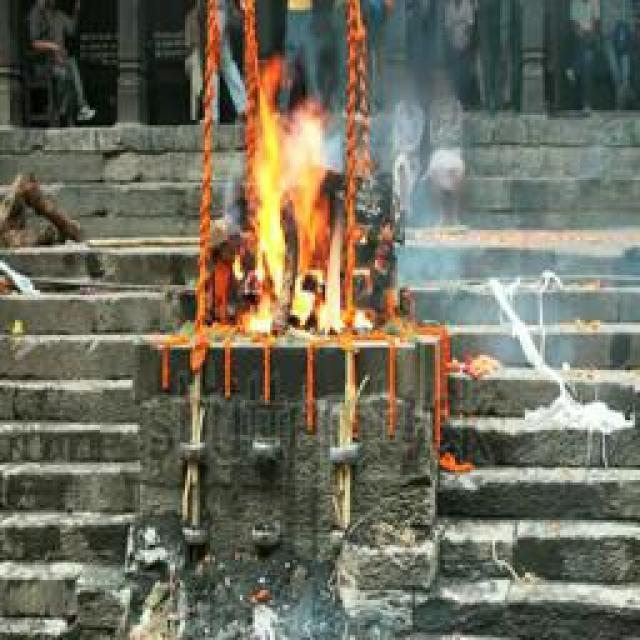Fire: (244, 67, 352, 342)
